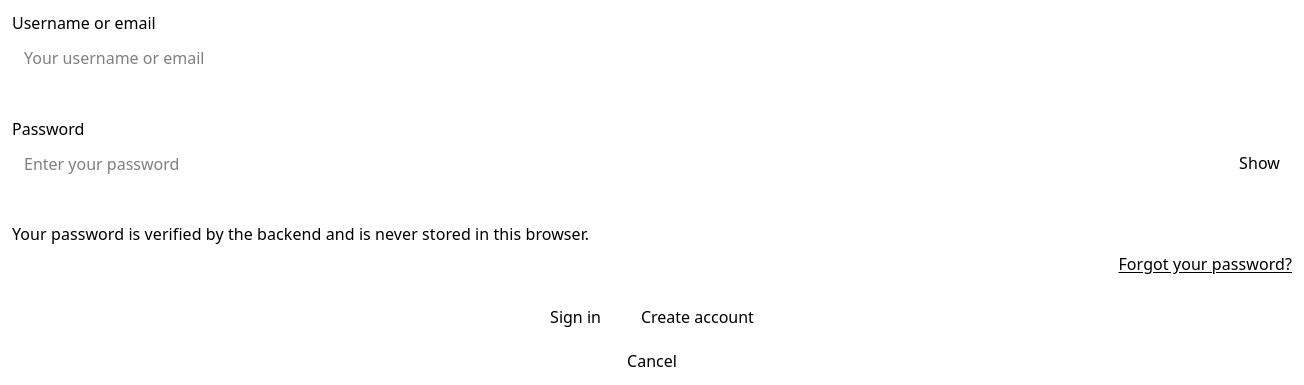
Test case: ToolsAuth sign-in › asks for the username before sending a reset request
What coordinates should you click on to do the following:
click the button "Forgot your password?"
I would click on:
 (1205, 264)
Its box is [1118,254,1292,275].
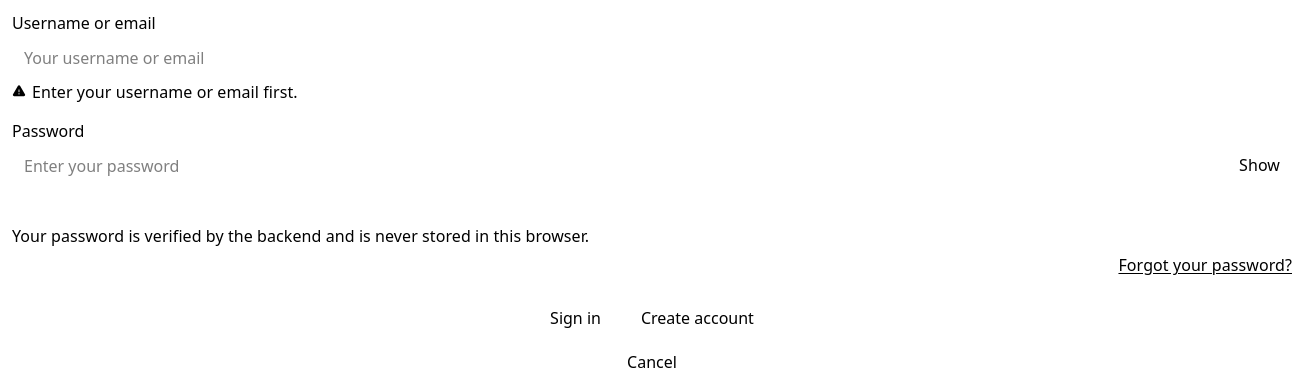
Check: the text "Enter your username or email first." is shown, box [32,82,298,104]
